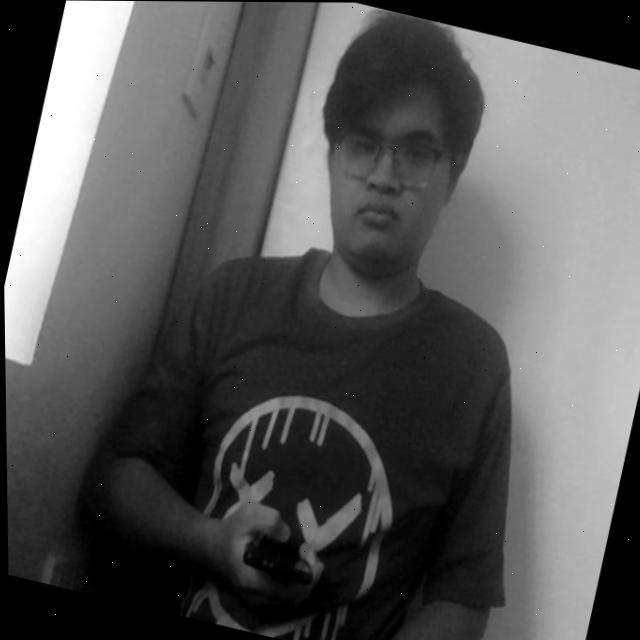phone: (217, 508, 334, 615)
